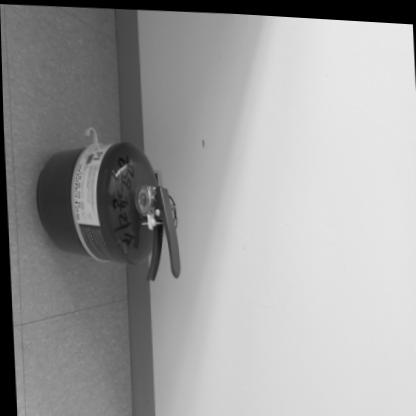FE: (30, 137, 177, 283)
